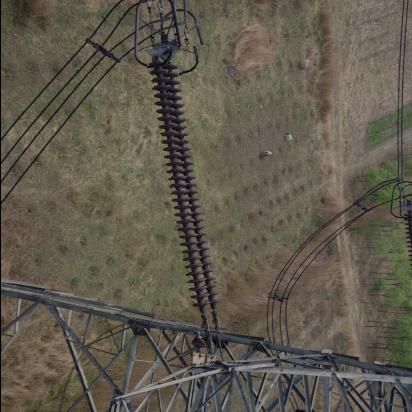insulator: (150, 47, 222, 335)
